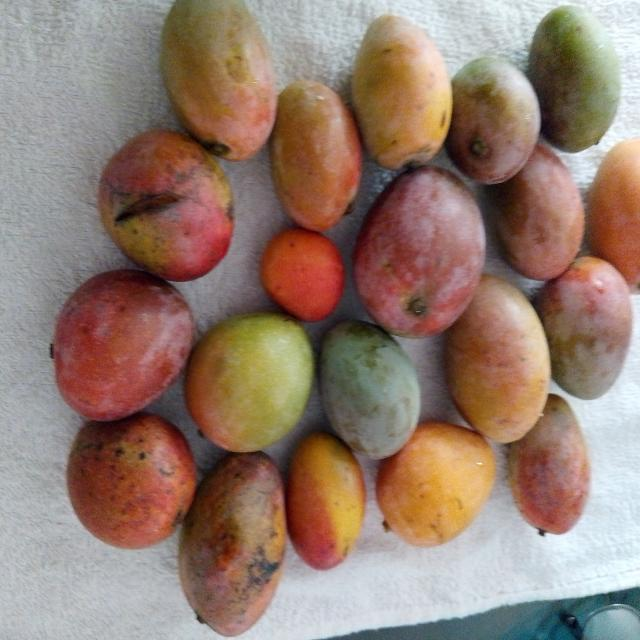mango: (353, 166, 485, 338), (52, 270, 194, 421), (99, 130, 233, 281), (179, 452, 286, 636), (161, 0, 276, 160), (185, 313, 314, 452), (67, 413, 196, 549), (445, 275, 550, 442), (352, 15, 451, 169), (376, 423, 495, 546), (270, 81, 362, 231), (320, 321, 420, 458), (536, 257, 632, 399), (487, 143, 585, 280), (529, 6, 620, 152), (446, 57, 540, 184), (508, 394, 590, 534), (286, 432, 366, 569), (260, 222, 348, 324), (588, 139, 639, 292)
